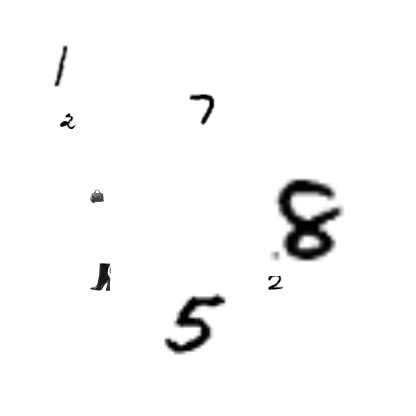1: (33, 38, 89, 94)
2: (264, 271, 286, 293), (56, 111, 78, 133)
5: (150, 279, 234, 363)
7: (184, 84, 226, 126)
8: (247, 164, 359, 276)
Ankle_boot: (86, 263, 114, 291)
Bag: (90, 189, 104, 203)
